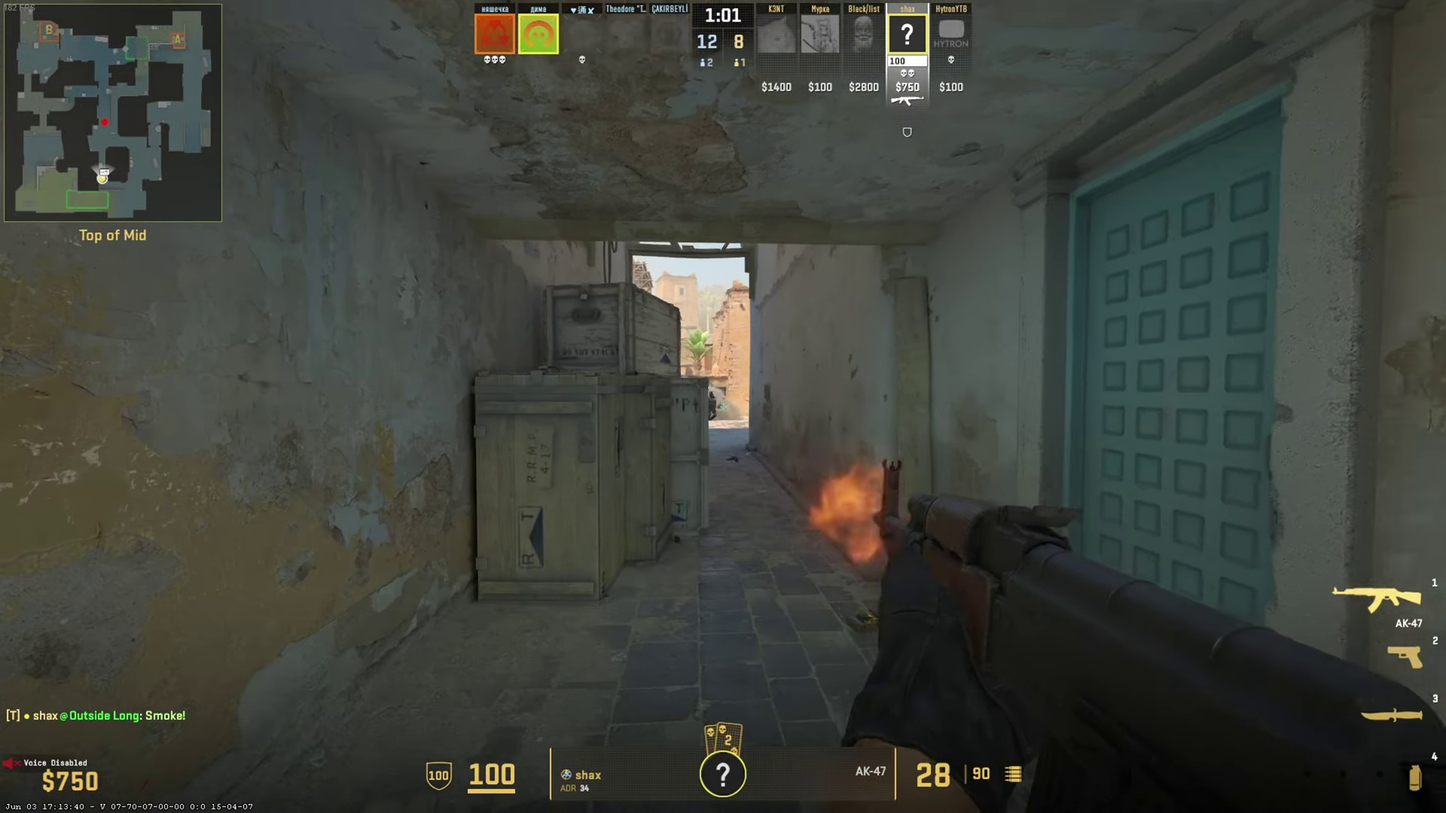CT: (708, 391, 717, 420)
